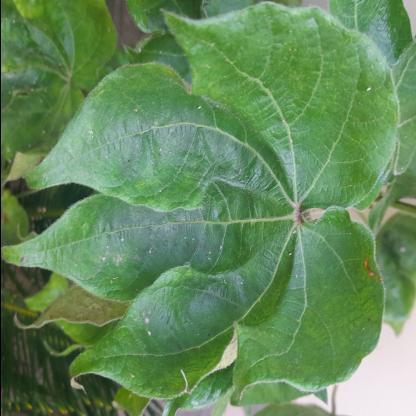curl_stage1: (202, 20, 325, 84), (109, 165, 197, 233), (16, 1, 104, 63), (26, 224, 97, 292)
curl_stage2: (43, 300, 101, 324)
healthy: (203, 114, 347, 274), (266, 281, 352, 387), (326, 8, 392, 115), (158, 293, 232, 361)
